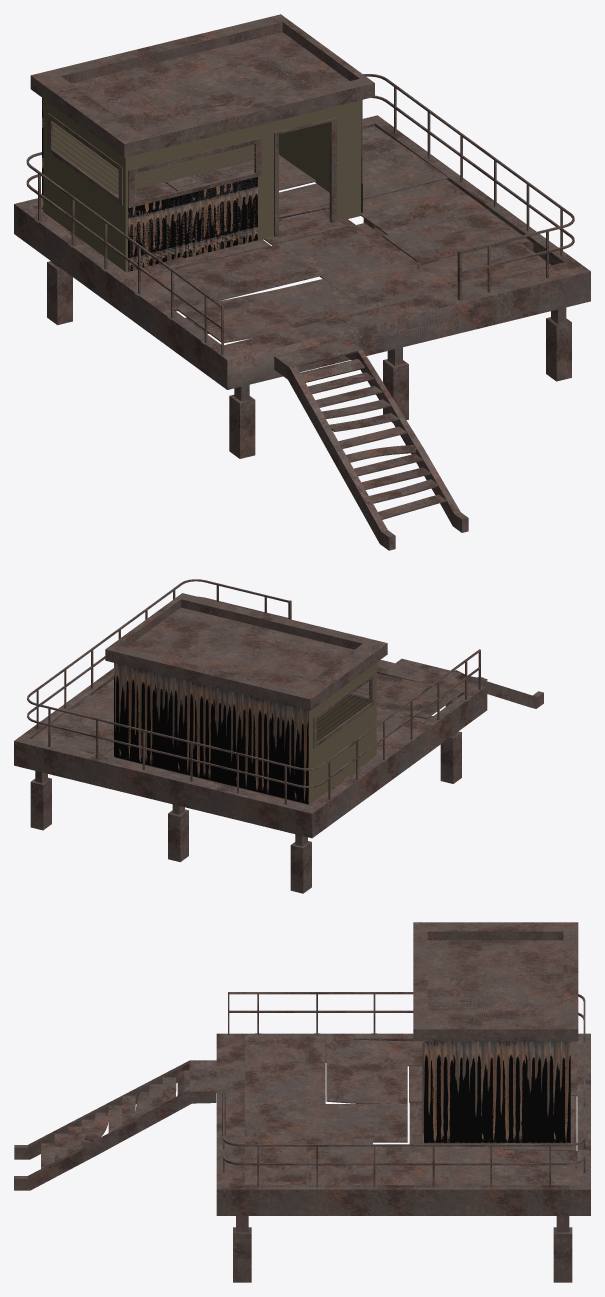
Rendered from security post.fbx.
3 views of the same model, one above another, from view 1: azimuth 30°, elevation 25°; view 2: azimuth 150°, elevation 25°; view 3: azimuth 270°, elevation 25° (orthographic). The views are drawn at different scales.
Visible parts, largest first — view 1: Platform_Metal, Security_post; view 2: Security_post, Platform_Metal; view 3: Platform_Metal, Security_post.
Part boxes in pixels (bbox=[...]): Platform_Metal: bbox=[14, 74, 590, 550]; Security_post: bbox=[30, 14, 374, 271]; Security_post: bbox=[105, 593, 387, 804]; Platform_Metal: bbox=[14, 579, 543, 893]; Platform_Metal: bbox=[14, 992, 590, 1282]; Security_post: bbox=[413, 922, 578, 1144].
Size of the model in its own units: 2639657 by 1671587 by 3998786.
